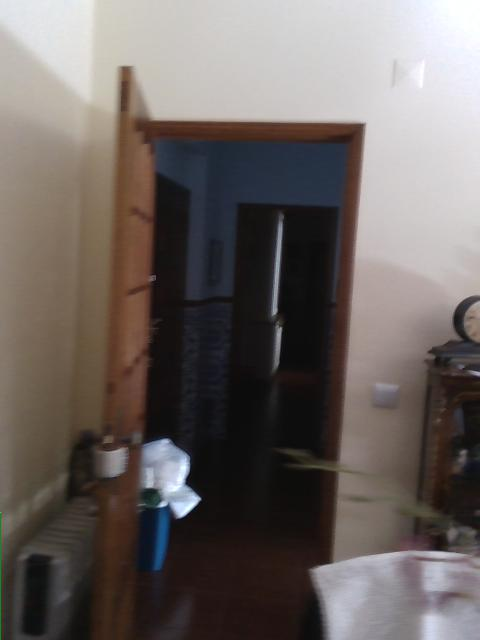open_door: (119, 119, 365, 600)
